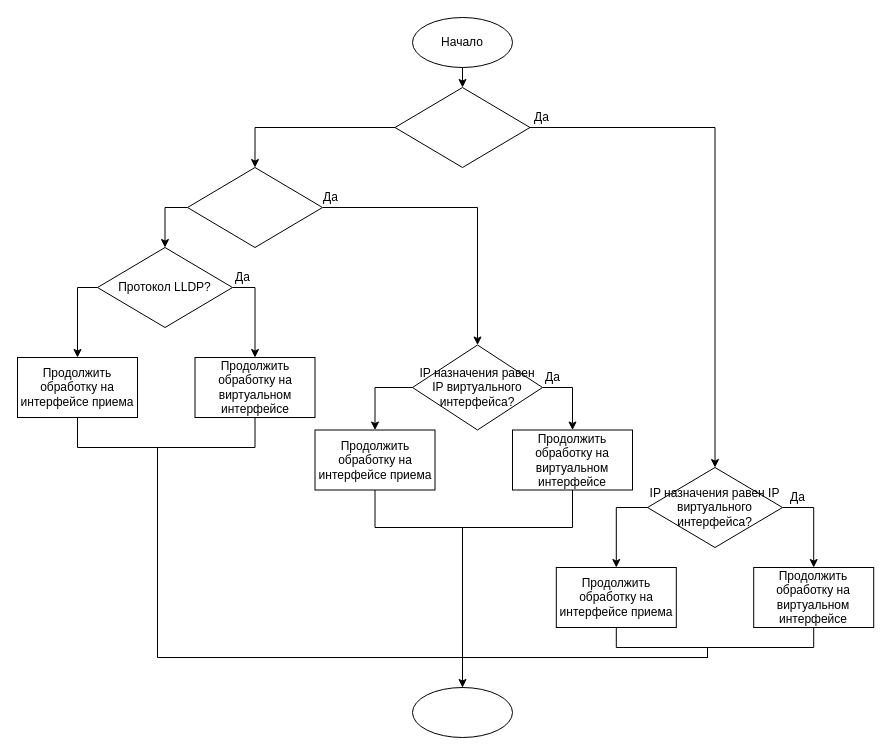
Image size: 892x755. Some labels were removed from this diagram. The centre of each missing label's shape, as x and y in pixels:
"Конец" goes at point 462,712.
"Протокол ARP?" goes at point 254,207.
"Протокол IP?" goes at point 462,127.
